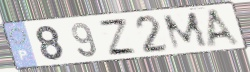2: (135, 14, 170, 54)
8: (35, 25, 66, 62)
9: (70, 21, 98, 59)
A: (205, 7, 244, 48)
M: (161, 10, 211, 52)
Z: (96, 18, 139, 57)
